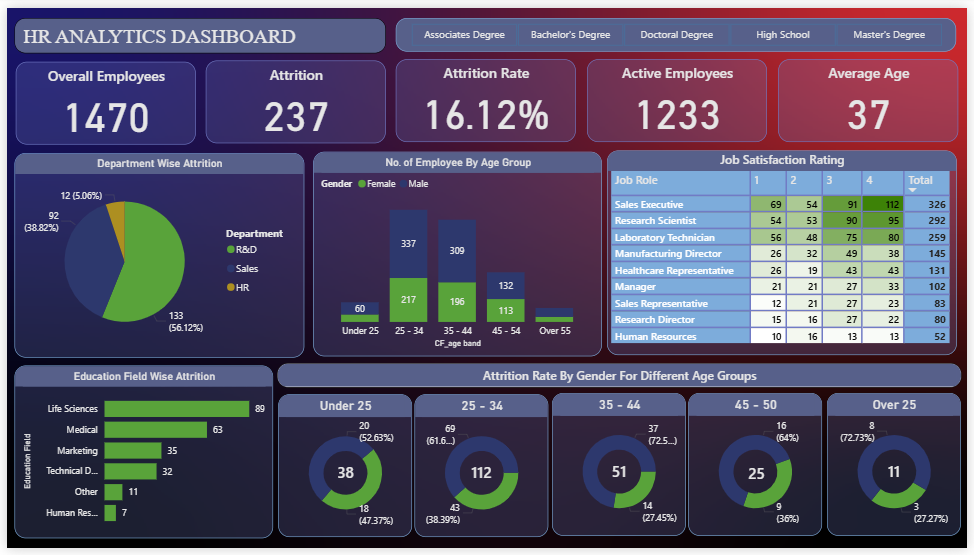

This screenshot's page, from the dashboard's own definition file:
{"tool":"powerbi","page":{"name":"HR Dashboard","canvas":[1280,720],"ordinal":0},"visuals":[{"type":"card","title":"Overall Employees","fields":{"Values":["Sum(HR data.Employee Count)"]},"box":[11.2,71.2,240,110],"z":0},{"type":"card","title":"Attrition","fields":{"Values":["Sum(HR data.Attrition Count)"]},"box":[265,70,240,110],"z":1000},{"type":"card","title":"Attrition Rate","fields":{"Values":["HR data.Attrition Rate"]},"box":[518.8,67.5,240,110],"z":2000},{"type":"card","title":"Active Employees","fields":{"Values":["HR data.Active Employees"]},"box":[773.8,67.5,240,110],"z":3000},{"type":"card","title":"Average Age","fields":{"Values":["Avg(HR data.Age)"]},"box":[1027.5,67.5,240,110],"z":4000},{"type":"pieChart","title":"Department Wise Attrition","fields":{"Category":["HR data.Department"],"Y":["Sum(HR data.Attrition Count)"]},"box":[10,192.5,386.2,272.5],"z":5000},{"type":"columnChart","title":"No. of Employee By Age Group","fields":{"Category":["HR data.CF_age band"],"Y":["Sum(HR data.Employee Count)"],"Series":["HR data.Gender"]},"box":[408.8,191.2,385,272.5],"z":6000},{"type":"pivotTable","title":"Job Satisfaction Rating","fields":{"Rows":["HR data.Job Role"],"Columns":["HR data.Job Satisfaction"],"Values":["Sum(HR data.Employee Count)"]},"box":[800,190,466.2,272.5],"z":7000},{"type":"barChart","title":"Education Field Wise Attrition","fields":{"Category":["HR data.Education Field"],"Y":["Sum(HR data.Attrition Count)"]},"box":[10,476.2,345,230],"z":8000},{"type":"donutChart","title":"Under 25","fields":{"Category":["HR data.Gender"],"Y":["Sum(HR data.Attrition Count)"],"Series":["HR data.CF_age band"]},"box":[361.2,515,178.8,190],"z":9000},{"type":"textbox","title":"Attrition Rate By Gender For Different Age Groups","box":[360,473.8,912.5,32.5],"z":10000},{"type":"donutChart","title":"35 - 44","fields":{"Category":["HR data.Gender"],"Y":["Sum(HR data.Attrition Count)"],"Series":["HR data.CF_age band"]},"box":[726.2,513.8,178.8,190],"z":11000},{"type":"donutChart","title":"45 - 50","fields":{"Category":["HR data.Gender"],"Y":["Sum(HR data.Attrition Count)"],"Series":["HR data.CF_age band"]},"box":[908.8,513.8,178.8,190],"z":12000},{"type":"donutChart","title":"Over 25","fields":{"Category":["HR data.Gender"],"Y":["Sum(HR data.Attrition Count)"],"Series":["HR data.CF_age band"]},"box":[1092.5,513.8,178.8,190],"z":13000},{"type":"card","fields":{"Values":["Sum(HR data.Attrition Count)"]},"box":[431.2,605,40,31.2],"z":14000},{"type":"donutChart","title":"25 - 34","fields":{"Category":["HR data.Gender"],"Y":["Sum(HR data.Attrition Count)"],"Series":["HR data.CF_age band"]},"box":[543.8,515,178.8,190],"z":15000},{"type":"card","fields":{"Values":["Sum(HR data.Attrition Count)"]},"box":[611.2,605,42.5,31.2],"z":16000},{"type":"card","fields":{"Values":["Sum(HR data.Attrition Count)"]},"box":[795,603.8,42.5,31.2],"z":17000},{"type":"card","fields":{"Values":["Sum(HR data.Attrition Count)"]},"box":[977.5,606.2,42.5,31.2],"z":18000},{"type":"card","fields":{"Values":["Sum(HR data.Attrition Count)"]},"box":[1161.2,603.8,42.5,31.2],"z":19000},{"type":"textbox","title":"HR ANALYTICS DASHBOARD","box":[10,12.5,495,47.5],"z":20000},{"type":"slicer","fields":{"Values":["HR data.Education"]},"box":[518.8,12.5,747.5,45],"z":21000}]}

Visuals, with their boxes in screenshot pixels (x1, y1, x2, y2), scaled from the page's 1280x720 canvas onto the 974x555 screenshot:
"Overall Employees" card: select_region(9, 55, 191, 140)
"Attrition" card: select_region(202, 54, 384, 139)
"Attrition Rate" card: select_region(395, 52, 577, 137)
"Active Employees" card: select_region(589, 52, 771, 137)
"Average Age" card: select_region(782, 52, 964, 137)
"Department Wise Attrition" pieChart: select_region(8, 148, 301, 358)
"No. of Employee By Age Group" columnChart: select_region(311, 147, 604, 357)
"Job Satisfaction Rating" pivotTable: select_region(609, 146, 963, 357)
"Education Field Wise Attrition" barChart: select_region(8, 367, 270, 544)
"Under 25" donutChart: select_region(275, 397, 411, 543)
"Attrition Rate By Gender For Different Age Groups" textbox: select_region(274, 365, 968, 390)
"35 - 44" donutChart: select_region(553, 396, 689, 543)
"45 - 50" donutChart: select_region(692, 396, 828, 543)
"Over 25" donutChart: select_region(831, 396, 967, 543)
card - Sum(HR data.Attrition Count): select_region(328, 466, 359, 490)
"25 - 34" donutChart: select_region(414, 397, 550, 543)
card - Sum(HR data.Attrition Count): select_region(465, 466, 497, 490)
card - Sum(HR data.Attrition Count): select_region(605, 465, 637, 489)
card - Sum(HR data.Attrition Count): select_region(744, 467, 776, 491)
card - Sum(HR data.Attrition Count): select_region(884, 465, 916, 489)
"HR ANALYTICS DASHBOARD" textbox: select_region(8, 10, 384, 46)
slicer - HR data.Education: select_region(395, 10, 964, 44)
